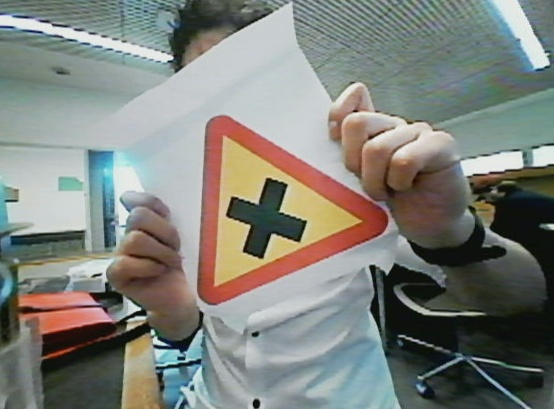junction: (178, 95, 418, 312)
